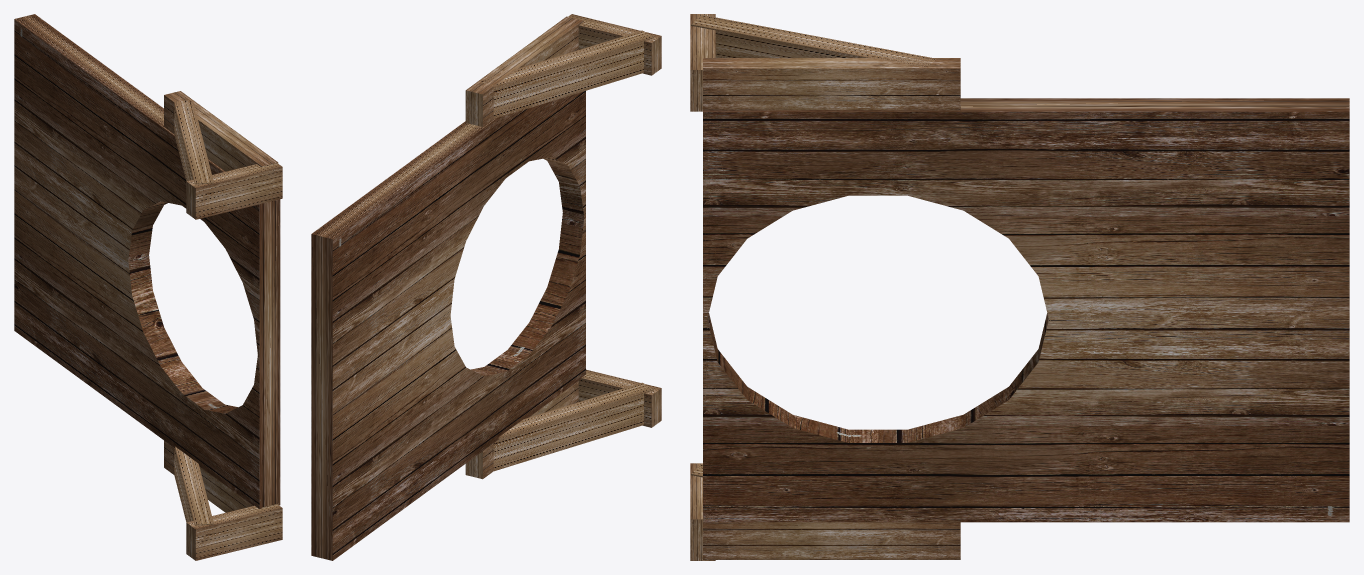
File: Obstacle_2.fbx
3 renders of one model, left to right at view 1: azimuth 30°, elevation 25°; view 2: azimuth 150°, elevation 25°; view 3: azimuth 270°, elevation 25°, orthographic. The views are drawn at different scales.
Parts seen in each view (by area): view 1: Box001, Box008, Box005, Box007, Box009, Box006, Box002; view 2: Box001, Box009, Box006, Box007, Box008, Box005, Box002; view 3: Box001, Box007, Box002, Box009, Box008, Box005.
Boxes of the visible parts, <box> form: Box001: <box>14,14,280,508</box>; Box008: <box>186,163,282,219</box>; Box005: <box>186,504,282,560</box>; Box007: <box>164,91,278,171</box>; Box009: <box>174,100,213,184</box>; Box006: <box>174,446,213,525</box>; Box002: <box>164,440,278,512</box>; Box001: <box>311,91,585,560</box>; Box009: <box>480,30,653,118</box>; Box006: <box>493,382,653,471</box>; Box007: <box>465,16,583,126</box>; Box008: <box>568,14,661,75</box>; Box005: <box>578,369,661,427</box>; Box002: <box>465,381,578,479</box>; Box001: <box>703,98,1349,522</box>; Box007: <box>703,58,960,110</box>; Box002: <box>703,522,960,559</box>; Box009: <box>691,15,935,67</box>; Box008: <box>690,14,715,111</box>; Box005: <box>690,463,715,560</box>.
Bounding box in the file's own units: 22.74 × 90.95 × 110.
1 material, 1 textured.
